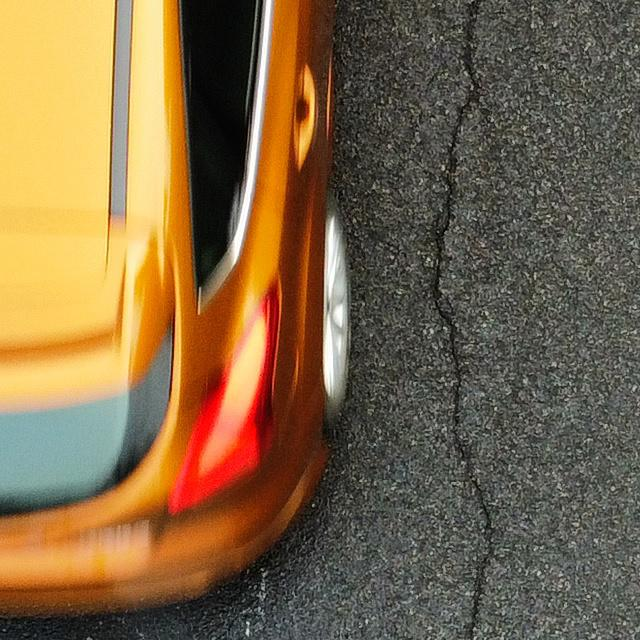LongitudinalCrack: (428, 1, 495, 640)
